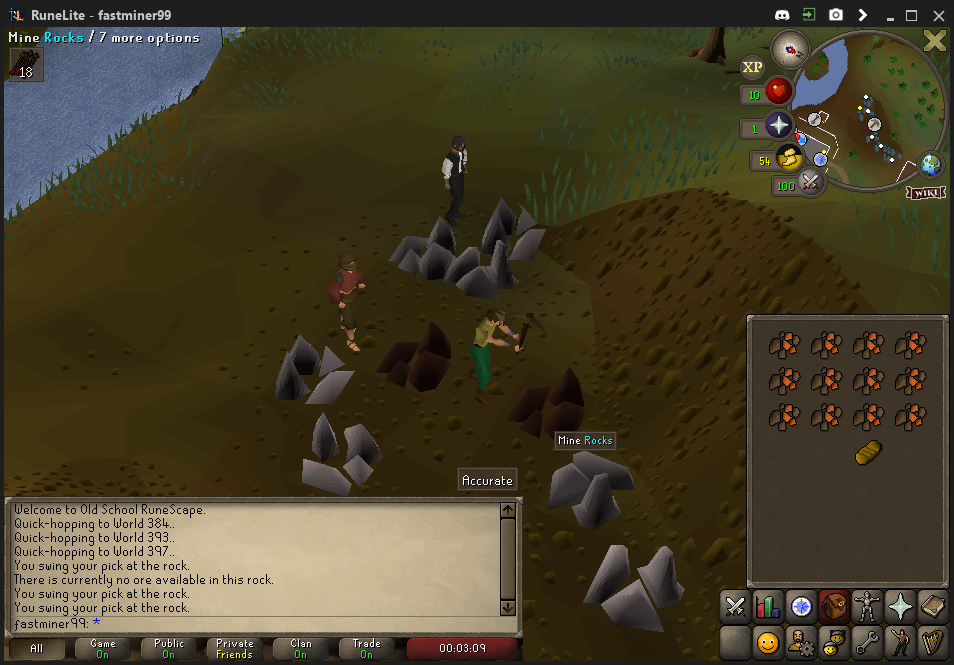ore: (379, 321, 451, 394), (510, 370, 585, 439)
